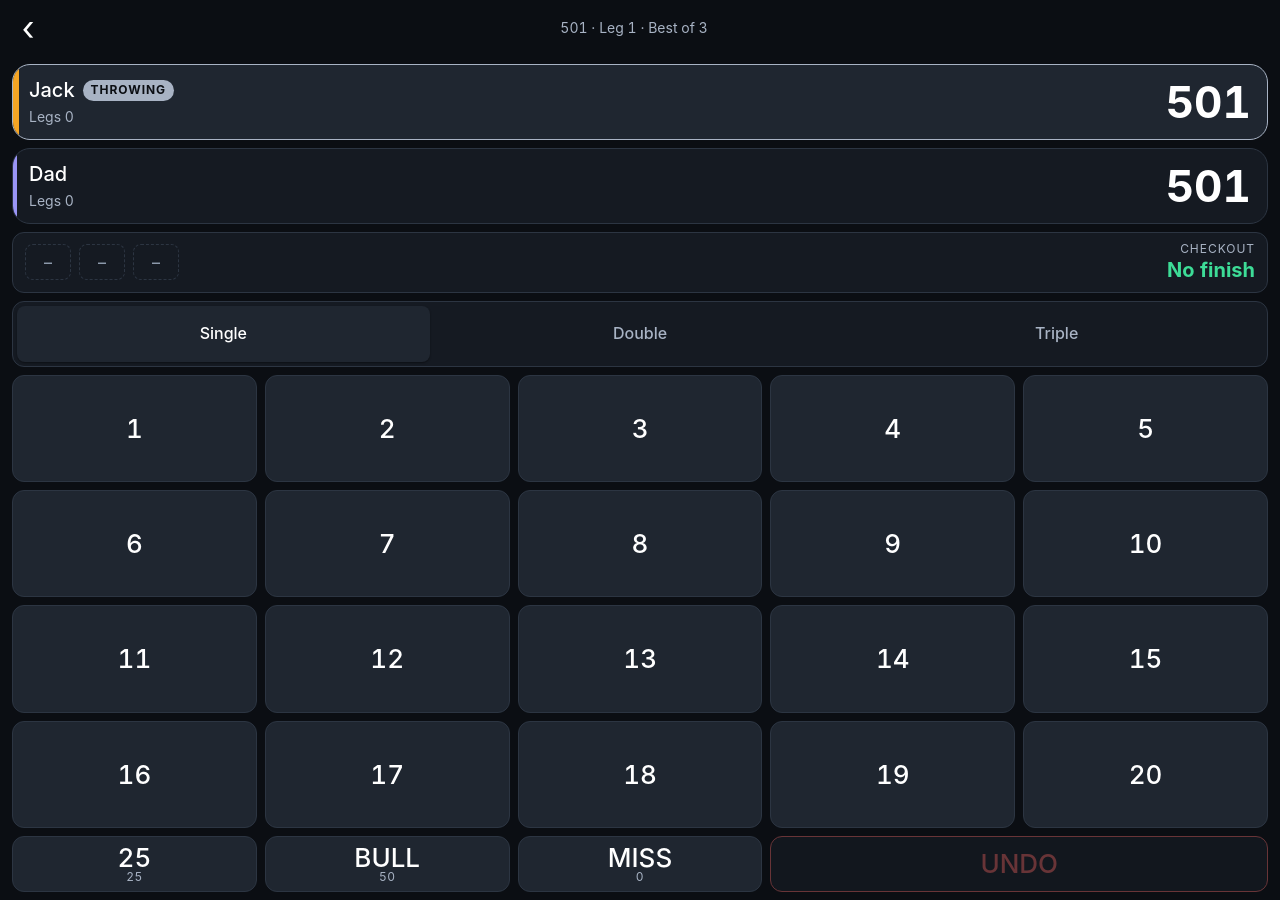
Test: criterion 1: the boundary between the two sheets › shows the leg sheet on leg 2 of a best-of-5, where 2 legs is not yet a win
Expected: the element named "This visit" is shown, x1=25 y1=244 x2=179 y2=280
Click the radio button labelled "Double": (640,334) x1=434 y1=306 x2=846 y2=362
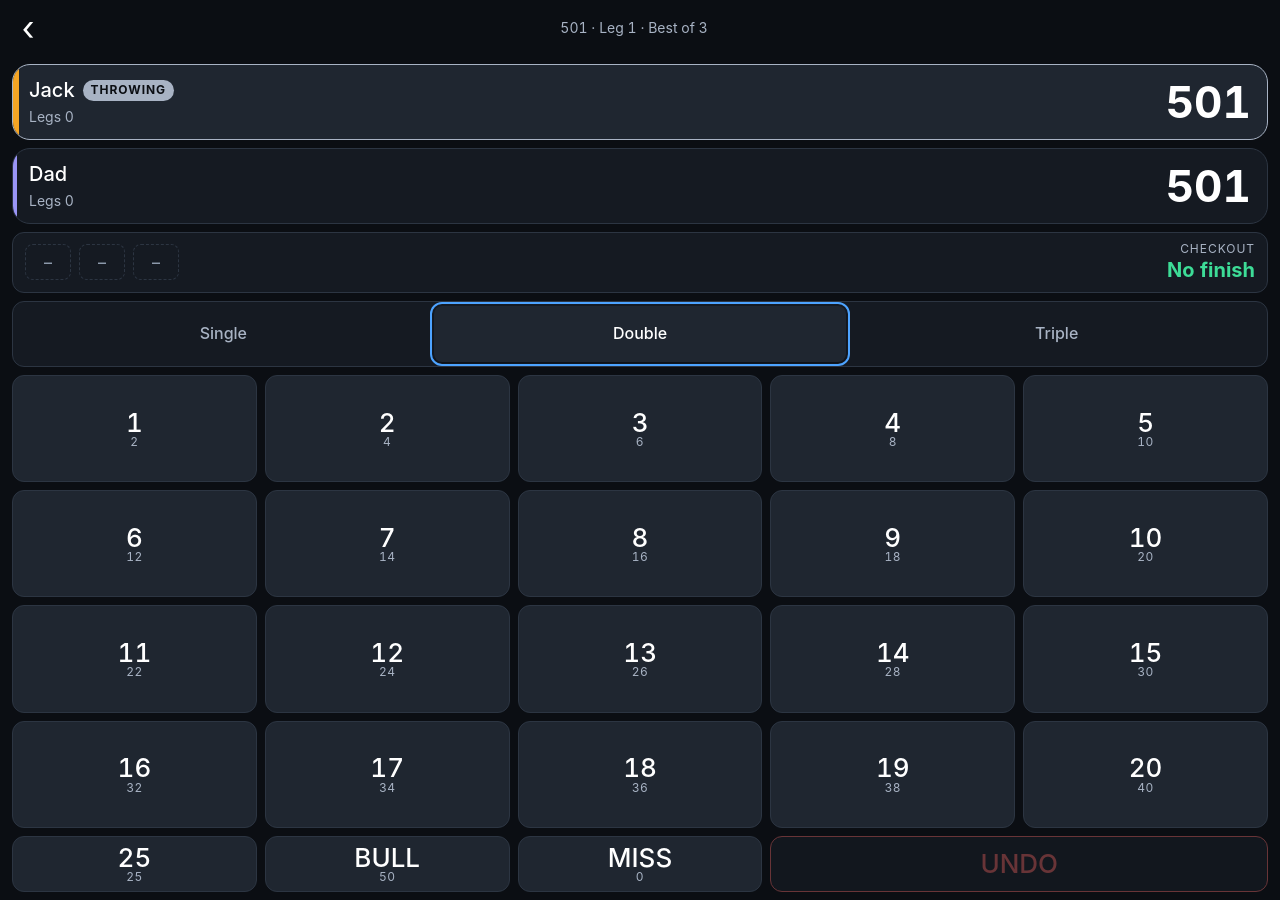
Click the button named "20,": (1146,774) x1=1023 y1=721 x2=1268 y2=828
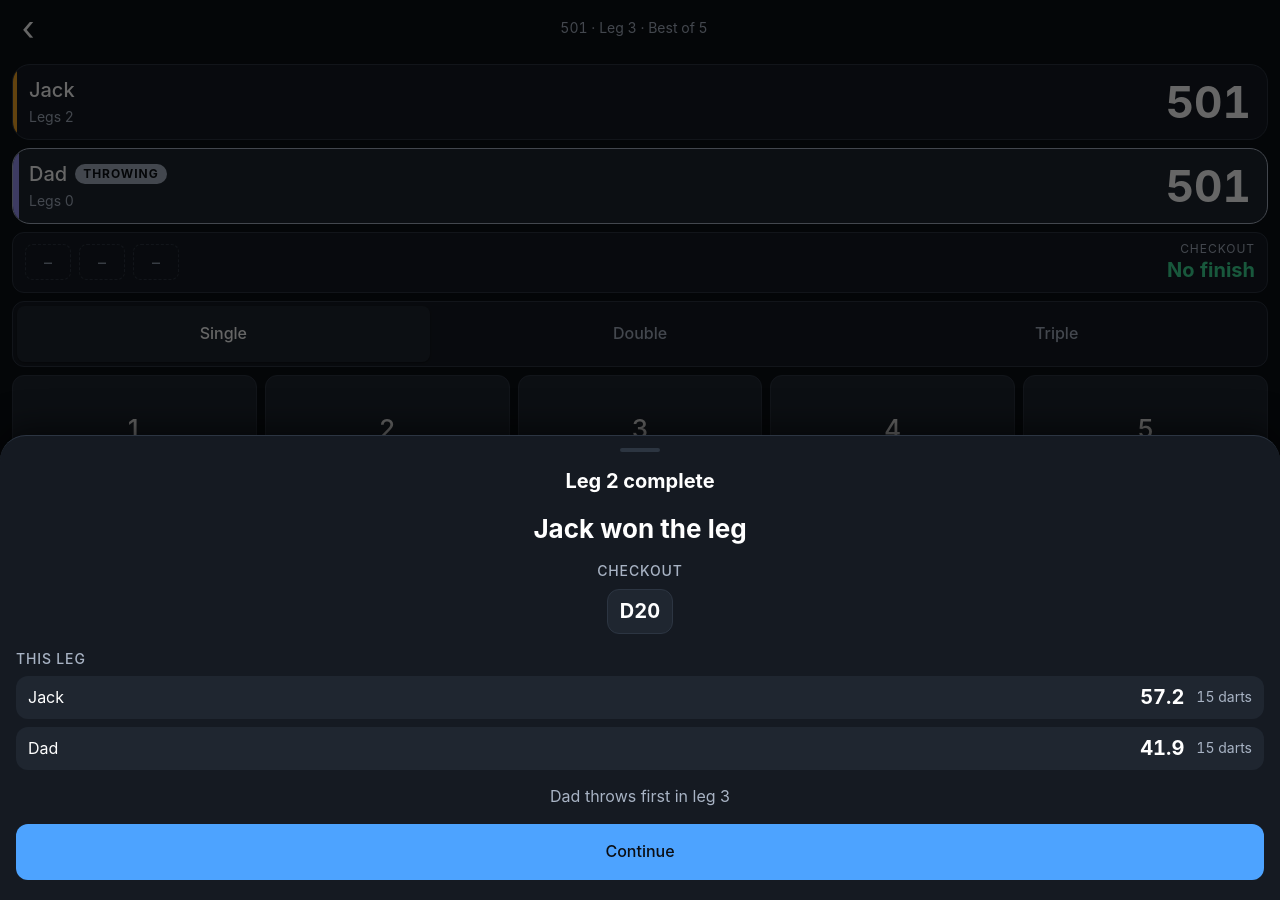
Now the dialog "Leg 2 complete" is shown, box x1=0 y1=434 x2=1279 y2=899
